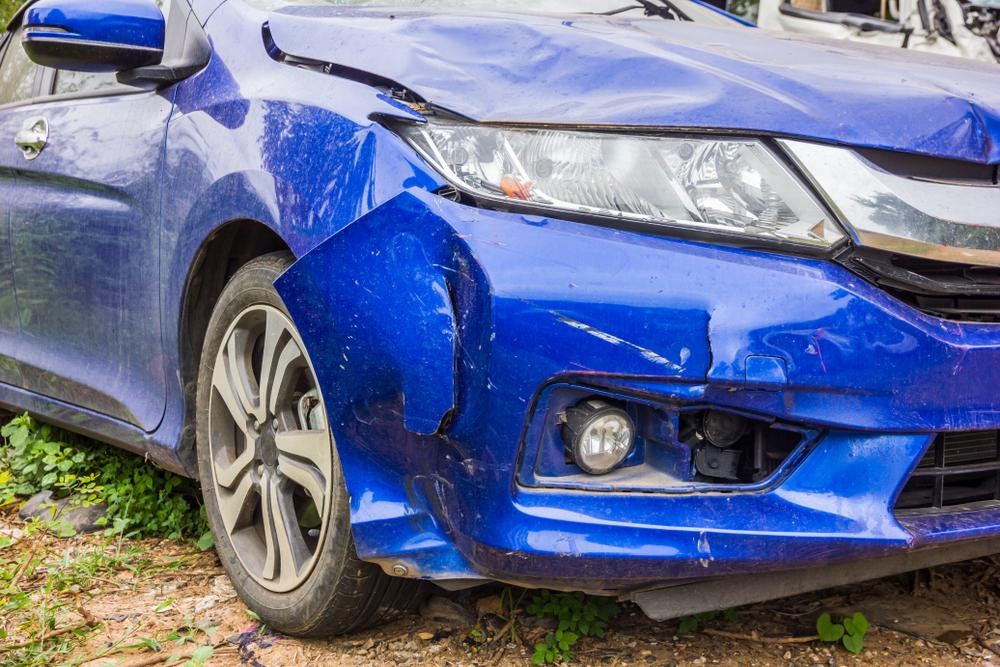crack: (429, 272, 469, 436), (704, 312, 716, 380)
dent: (392, 16, 721, 126), (334, 388, 502, 577), (905, 96, 999, 163)
scratch: (543, 310, 695, 377)
